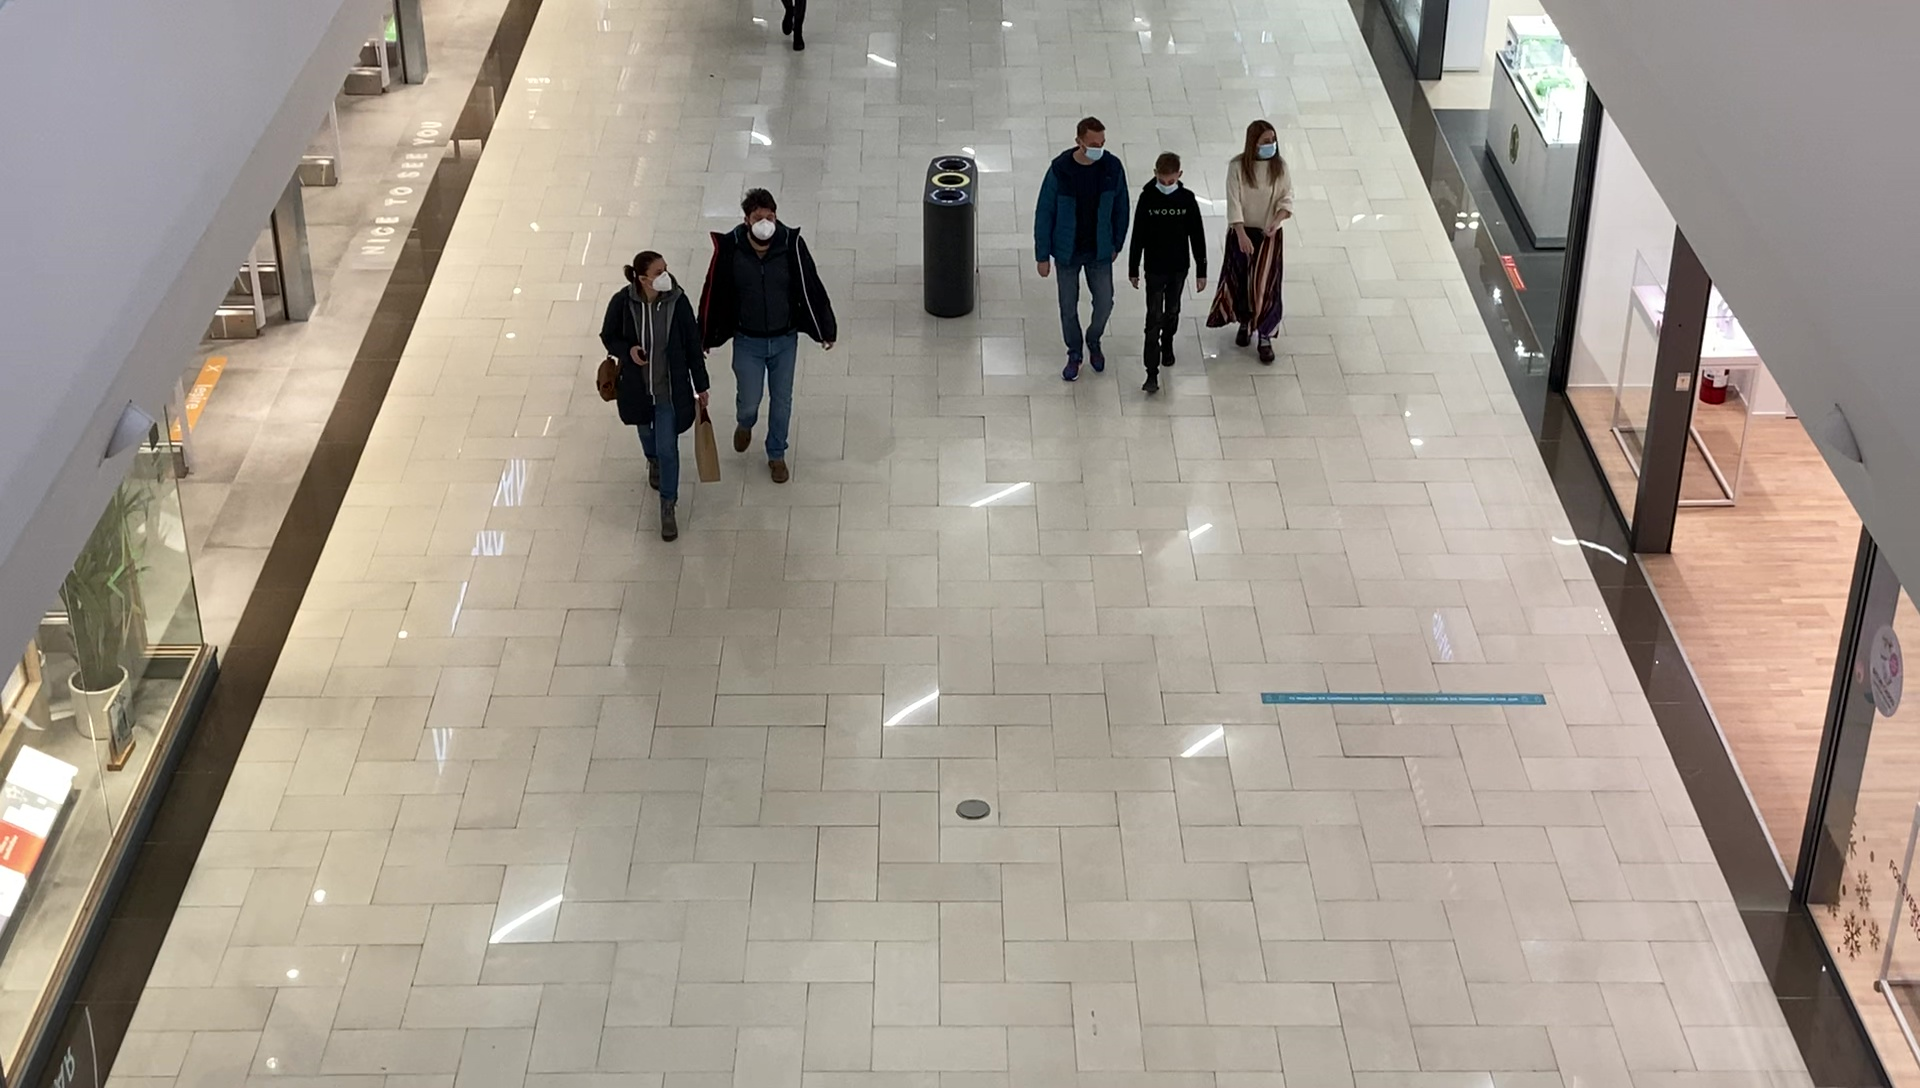person: (703, 188, 837, 485), (597, 252, 712, 547), (1034, 116, 1132, 387), (1207, 120, 1294, 366), (1128, 151, 1208, 396)
